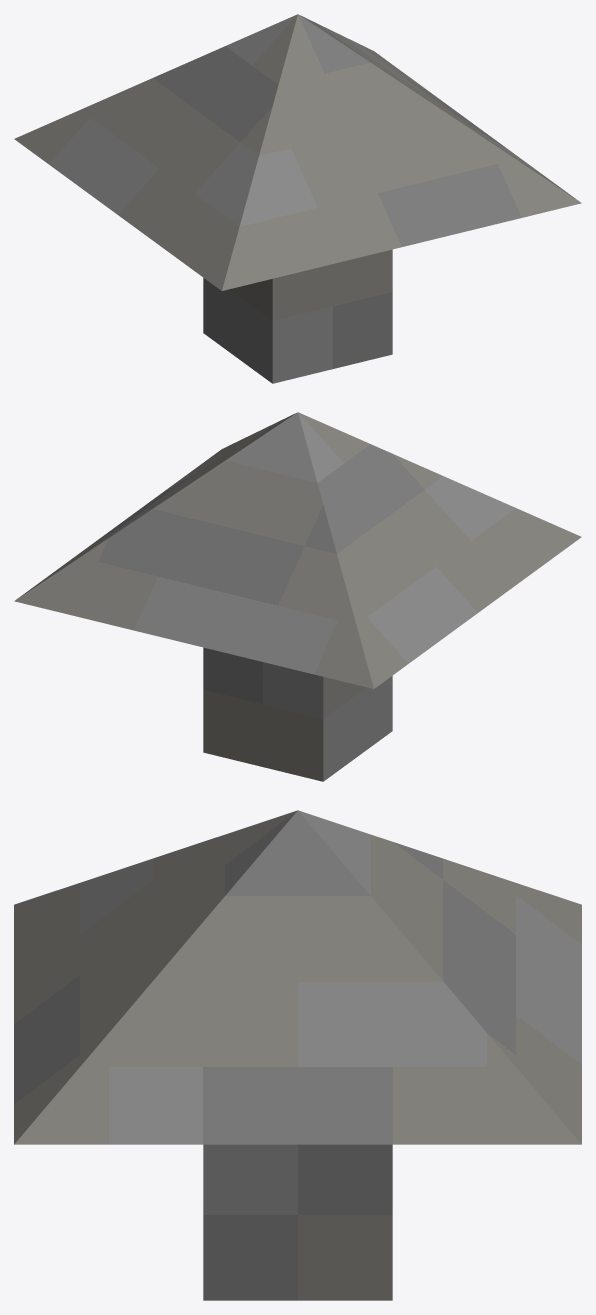
File: teko no Doda.fbx
3 views of the same model, one above another, from view 1: azimuth 30°, elevation 25°; view 2: azimuth 150°, elevation 25°; view 3: azimuth 270°, elevation 25° (orthographic). The views are drawn at different scales.
Visible parts, largest first — view 1: pyramid, mesh; view 2: pyramid, mesh; view 3: pyramid, mesh.
Boxes of the visible parts, x1=… form: pyramid: x1=14, y1=14, x2=581, y2=290; mesh: x1=203, y1=249, x2=392, y2=383; pyramid: x1=14, y1=412, x2=581, y2=688; mesh: x1=203, y1=647, x2=392, y2=781; pyramid: x1=14, y1=810, x2=581, y2=1144; mesh: x1=203, y1=1144, x2=392, y2=1300.
Bounding box in the file's own units: 37.5 × 32.81 × 37.5.
2 materials, 2 textured.
